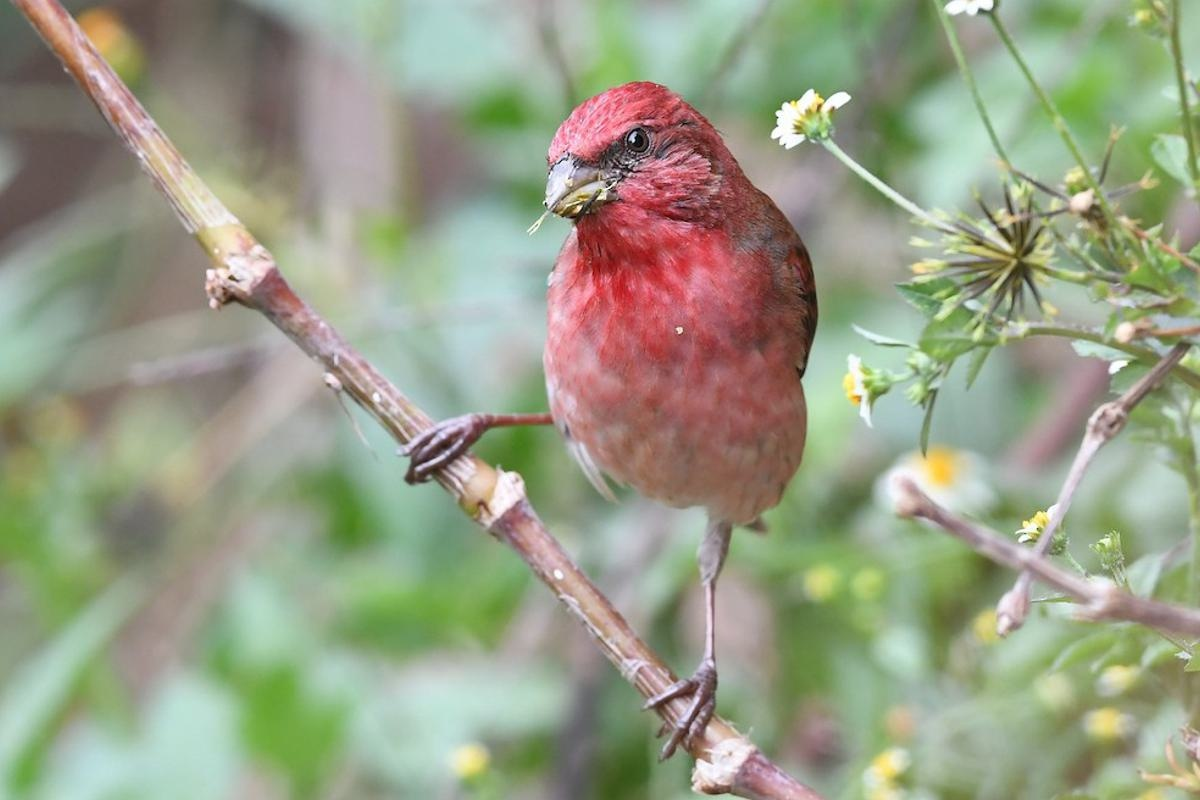rosefinch: (540, 63, 804, 614)
